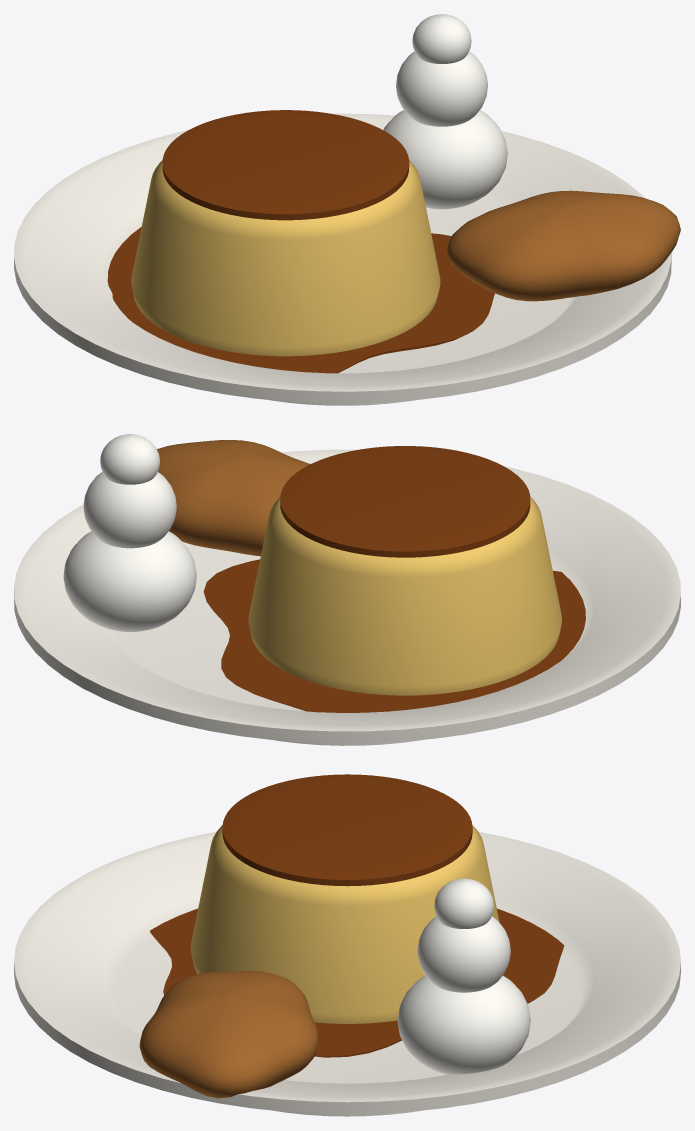
File: flan.glb
The picture shows the model from 3 angles, top to bottom: view 1: azimuth 30°, elevation 25°; view 2: azimuth 150°, elevation 25°; view 3: azimuth 270°, elevation 25°; orthographic projection.
Parts seen in each view (by area): view 1: plato; view 2: plato; view 3: plato.
Part boxes in pixels (x1,y1,x2,y2): plato: (14, 14, 680, 405); plato: (14, 434, 680, 745); plato: (14, 774, 680, 1116).
Size of the model in its own units: 0.2 by 0.074 by 0.2.
